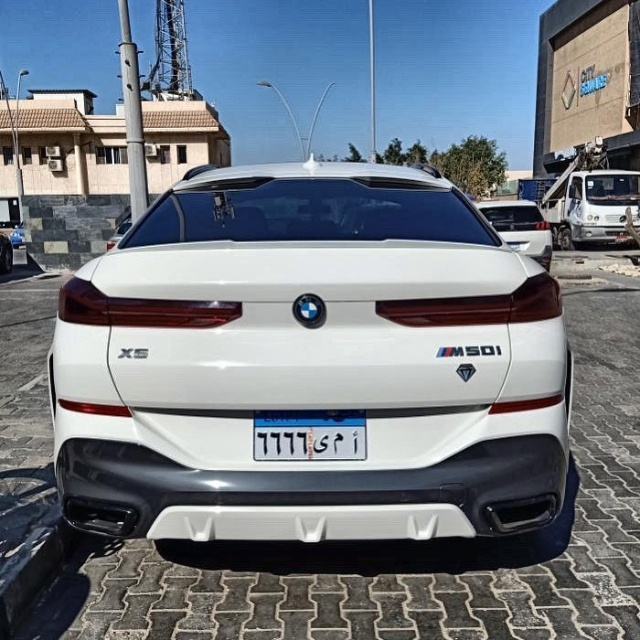License Plate: (252, 409, 368, 463)
